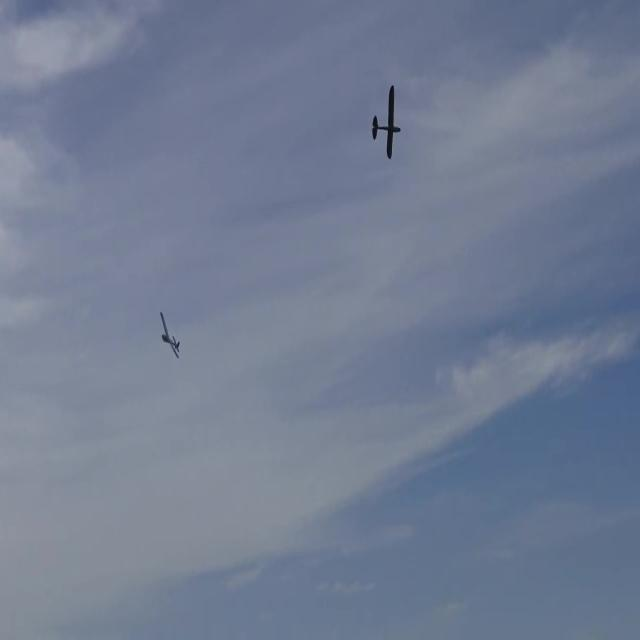iha: (160, 309, 182, 361), (371, 51, 402, 65)
